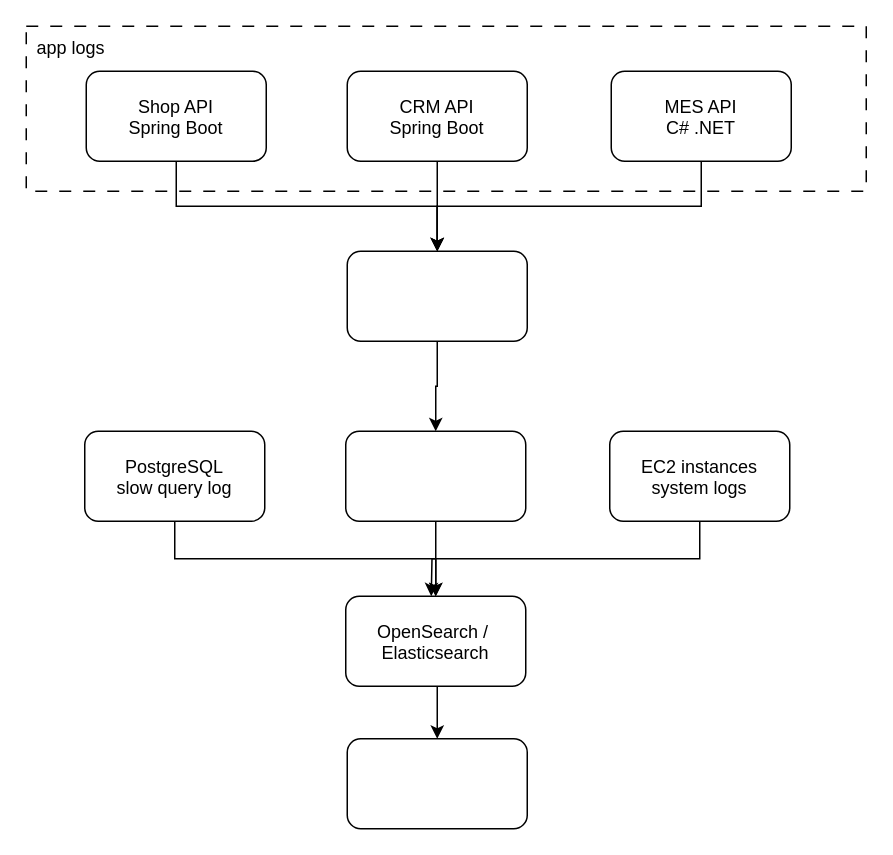
This 893x855 diagram has some shape labels left out. The centre of each missing label's shape, as x and y in pixels:
Fluent Bit / Filebeat log collectors: the point at 436,295
OpenSearch Dashboards: the point at 436,783
RabbitMQ server logs: the point at 435,475
